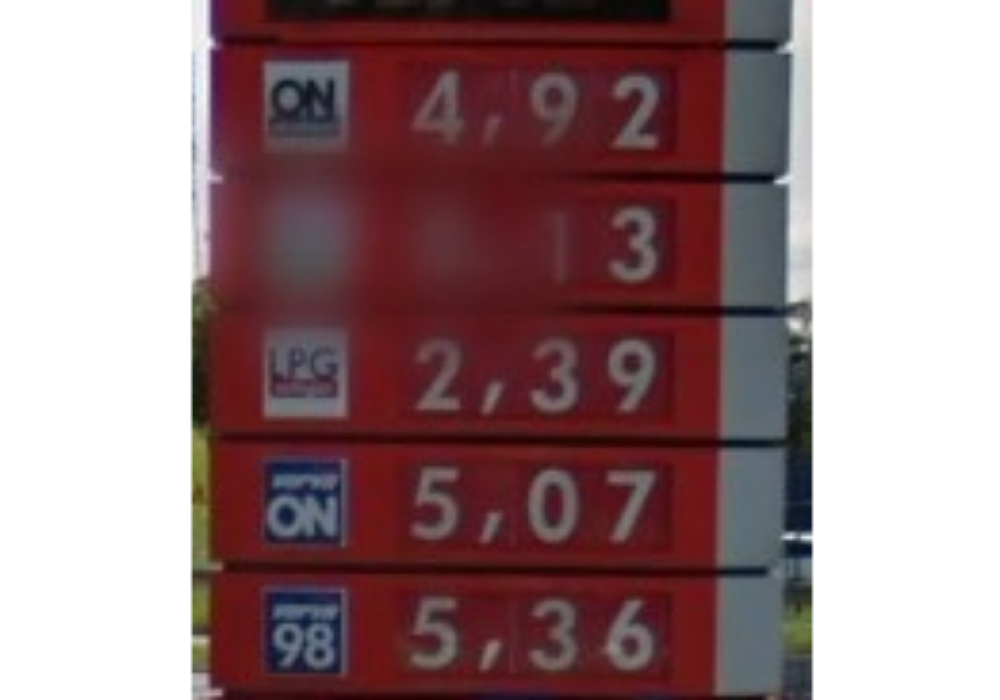LPG: (262, 320, 353, 423)
ON: (258, 452, 351, 548), (258, 54, 349, 147)
PB98: (256, 586, 348, 682)
